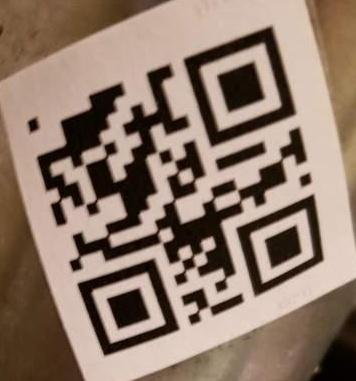qrcode: (28, 26, 326, 358)
